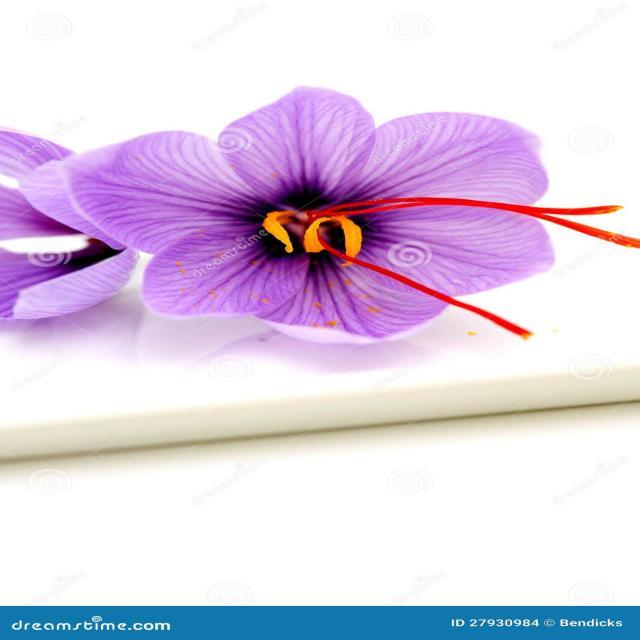Flower: (0, 84, 565, 334)
stigma: (283, 158, 640, 255), (341, 247, 535, 341)
